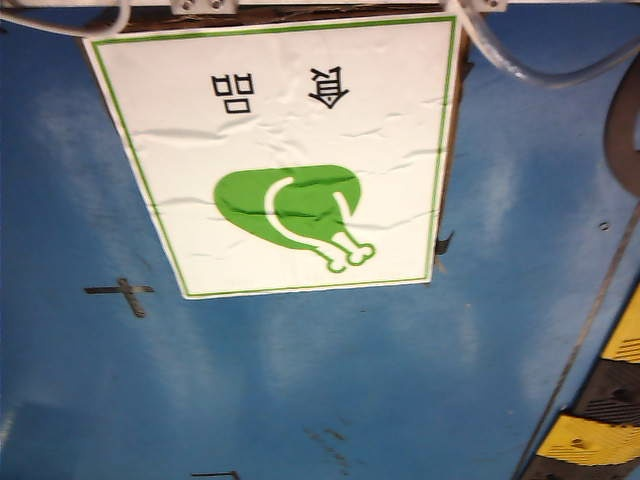Cube_food: (181, 39, 427, 297)
